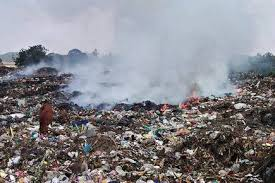garbage: (57, 106, 275, 181), (1, 136, 273, 180), (229, 79, 274, 183), (2, 75, 39, 183)
